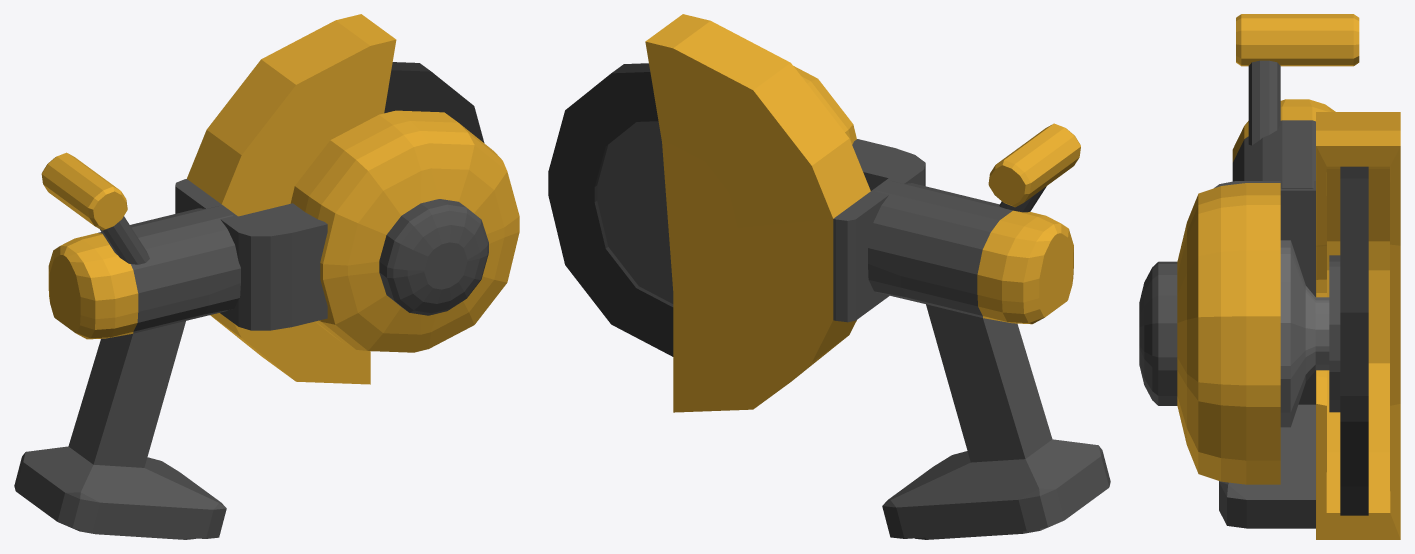
The picture shows the model from 3 angles, left to right: view 1: azimuth 30°, elevation 25°; view 2: azimuth 150°, elevation 25°; view 3: azimuth 270°, elevation 25°; orthographic projection. The views are drawn at different scales.
Parts seen in each view (by area): view 1: F-36, F-36.001; view 2: F-36, F-36.001; view 3: F-36, F-36.001.
Part boxes in pixels (x1=…): F-36: x1=14, y1=14, x2=519, y2=539; F-36.001: x1=384, y1=62, x2=484, y2=142; F-36: x1=645, y1=14, x2=1110, y2=539; F-36.001: x1=548, y1=63, x2=673, y2=356; F-36: x1=1139, y1=14, x2=1400, y2=539; F-36.001: x1=1329, y1=166, x2=1368, y2=515.
Bounding box in the file's own units: 143 × 122 × 56.92.
